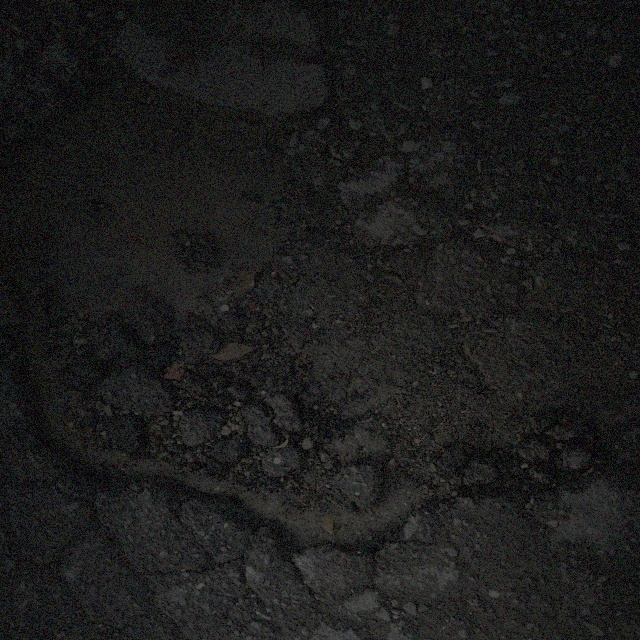pothole: (8, 53, 396, 578)
